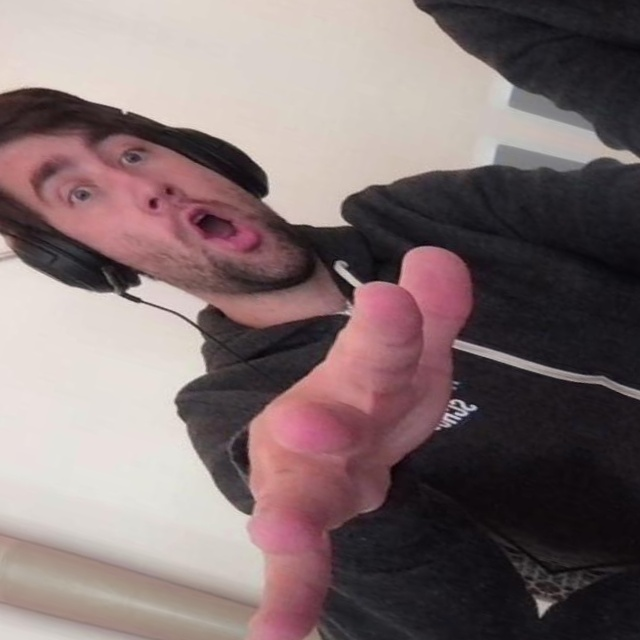Paper: (95, 622, 391, 640)
